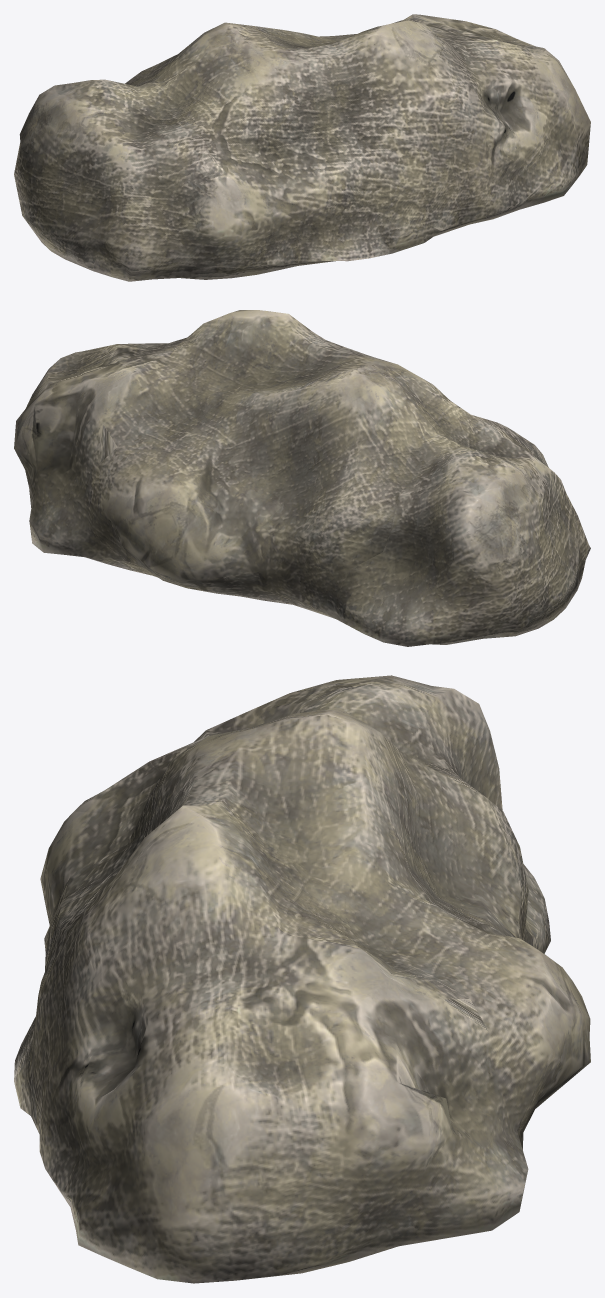
Rendered from rock5_LOD0.fbx.
The picture shows the model from 3 angles, top to bottom: view 1: azimuth 30°, elevation 25°; view 2: azimuth 150°, elevation 25°; view 3: azimuth 270°, elevation 25°; orthographic projection. The views are drawn at different scales.
Visible parts, largest first — view 1: rock5; view 2: rock5; view 3: rock5.
Boxes of the visible parts, box(x1,y1,x2,y2) form: rock5: box(14, 14, 590, 281); rock5: box(14, 310, 590, 646); rock5: box(14, 675, 590, 1283).
Size of the model in its own units: 30.6 by 17.55 by 10.67.
